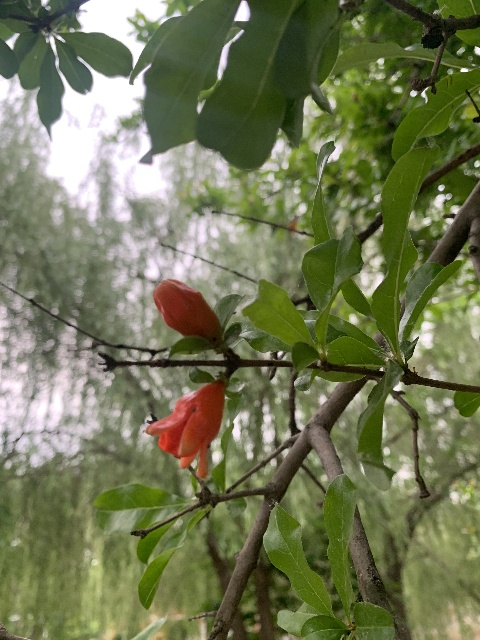bud: (153, 278, 221, 343)
flower: (145, 380, 225, 478)
